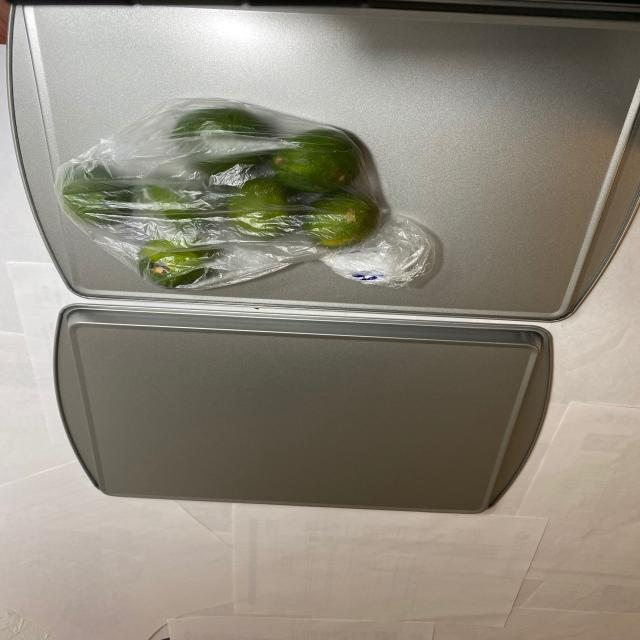lemon: (58, 110, 400, 283)
